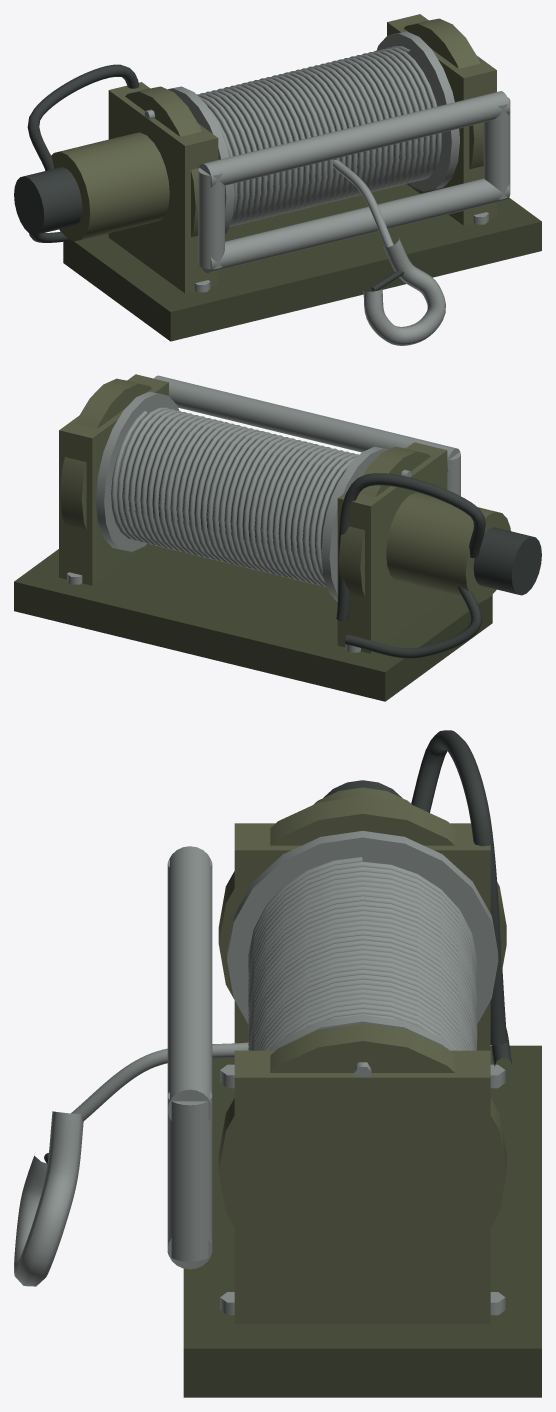
Rendered from winch.glb.
3 views of the same model, one above another, from view 1: azimuth 30°, elevation 25°; view 2: azimuth 150°, elevation 25°; view 3: azimuth 270°, elevation 25° (orthographic). The views are drawn at different scales.
Visible parts, largest first — view 1: WR-12 hydraulic recovery winch, mounting skid, bearing pedestal (×2), forged hook and safety latch; view 2: WR-12 hydraulic recovery winch, mounting skid, bearing pedestal (×2); view 3: WR-12 hydraulic recovery winch, bearing pedestal (×2), mounting skid, forged hook and safety latch.
Boxes of the visible parts, left/top/right/bottom form: WR-12 hydraulic recovery winch: left=14, top=18, right=510, bottom=292; mounting skid: left=63, top=184, right=541, bottom=341; bearing pedestal (×2): left=108, top=14, right=496, bottom=293; forged hook and safety latch: left=363, top=237, right=445, bottom=345; WR-12 hydraulic recovery winch: left=60, top=375, right=541, bottom=658; mounting skid: left=14, top=544, right=492, bottom=701; bearing pedestal (×2): left=59, top=374, right=447, bottom=653; WR-12 hydraulic recovery winch: left=71, top=730, right=512, bottom=1315; bearing pedestal (×2): left=234, top=823, right=490, bottom=1324; mounting skid: left=183, top=1045, right=541, bottom=1397; forged hook and safety latch: left=14, top=1111, right=83, bottom=1286.
Bounding box in the file's own units: 1.39 × 0.6401 × 0.825.
